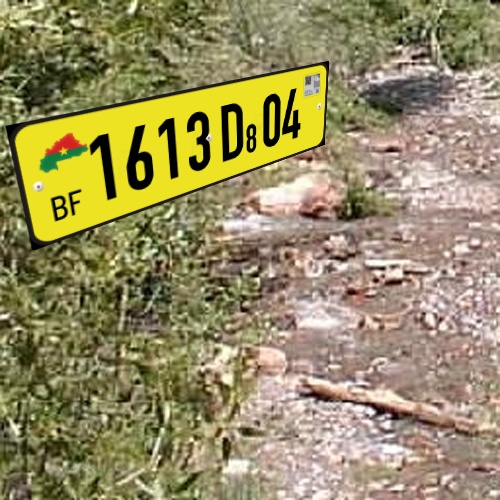plate: (6, 56, 339, 252)
